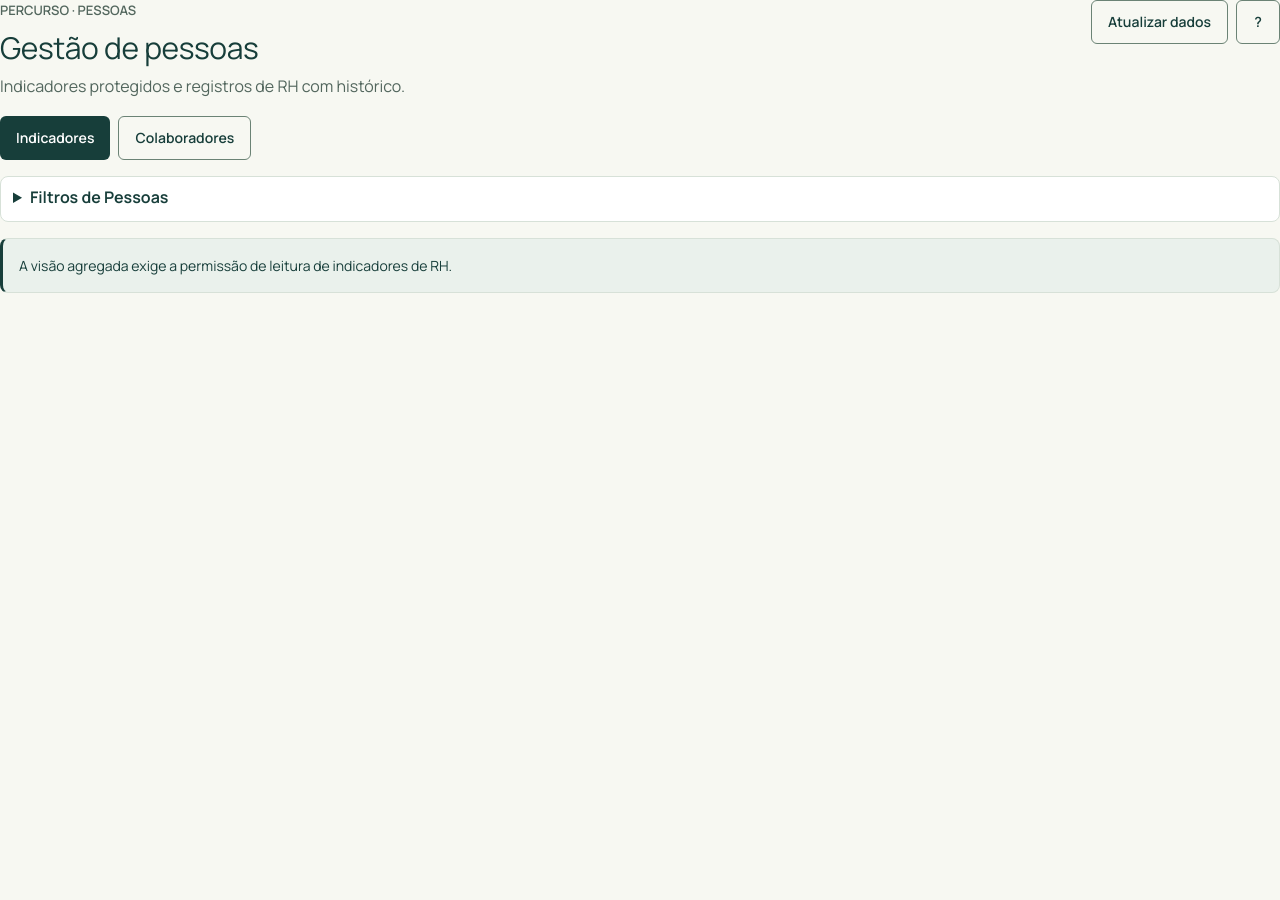
it: preserva o perfil em conflito e exige revisão antes de nova escrita
This screenshot has width=1280, height=900.
Click the button "Colaboradores": click(185, 138) 118,116 -> 251,160
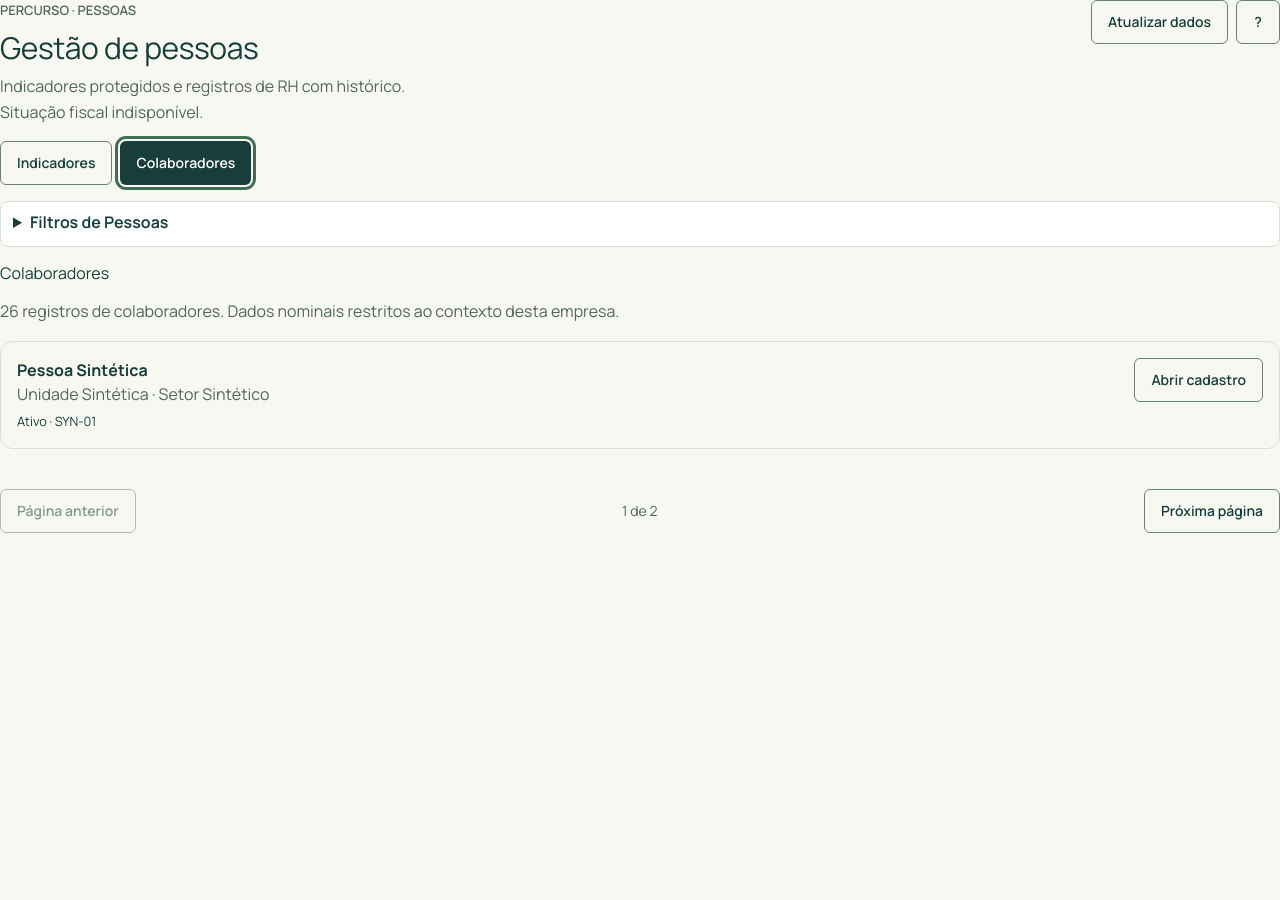
Click the button with aria-label "Abrir Pessoa Sintética": click(1199, 380) 1134,358 -> 1263,402
(page scrolled)
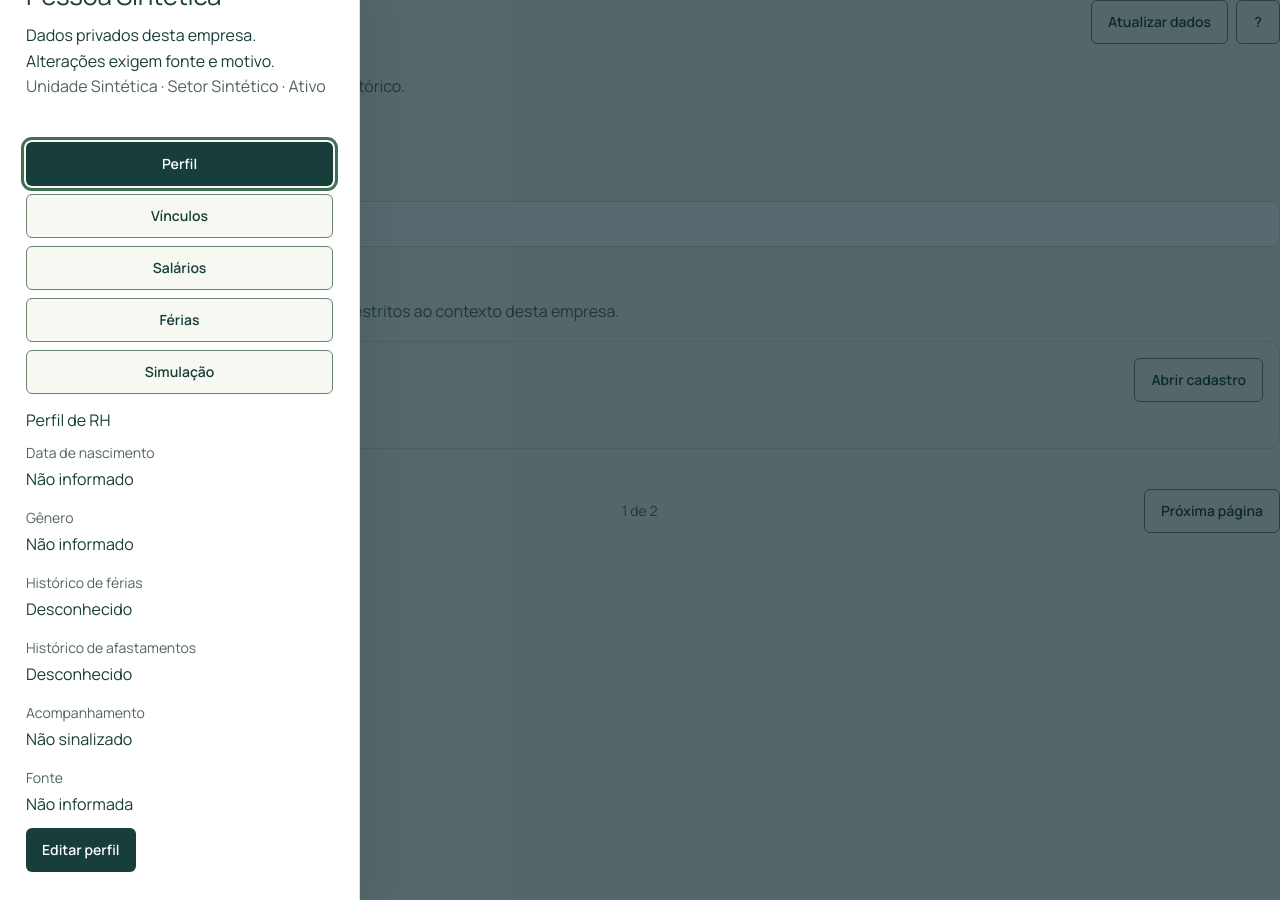
Click the button "Editar perfil": click(81, 850) 26,828 -> 136,872
(page scrolled)
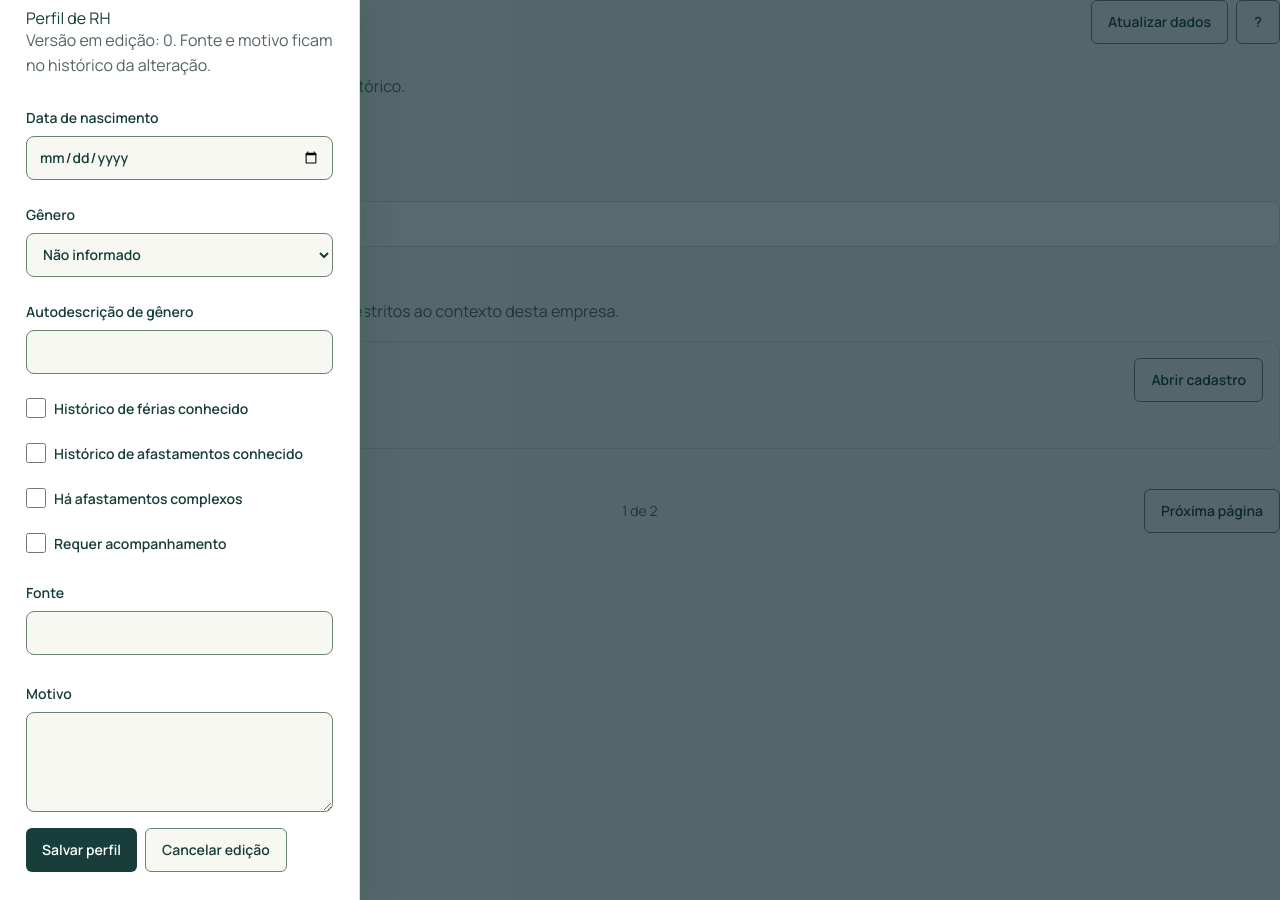
In the field labelled "Fonte": (180, 633) 26,611 -> 333,655, type "Declaração sintética"
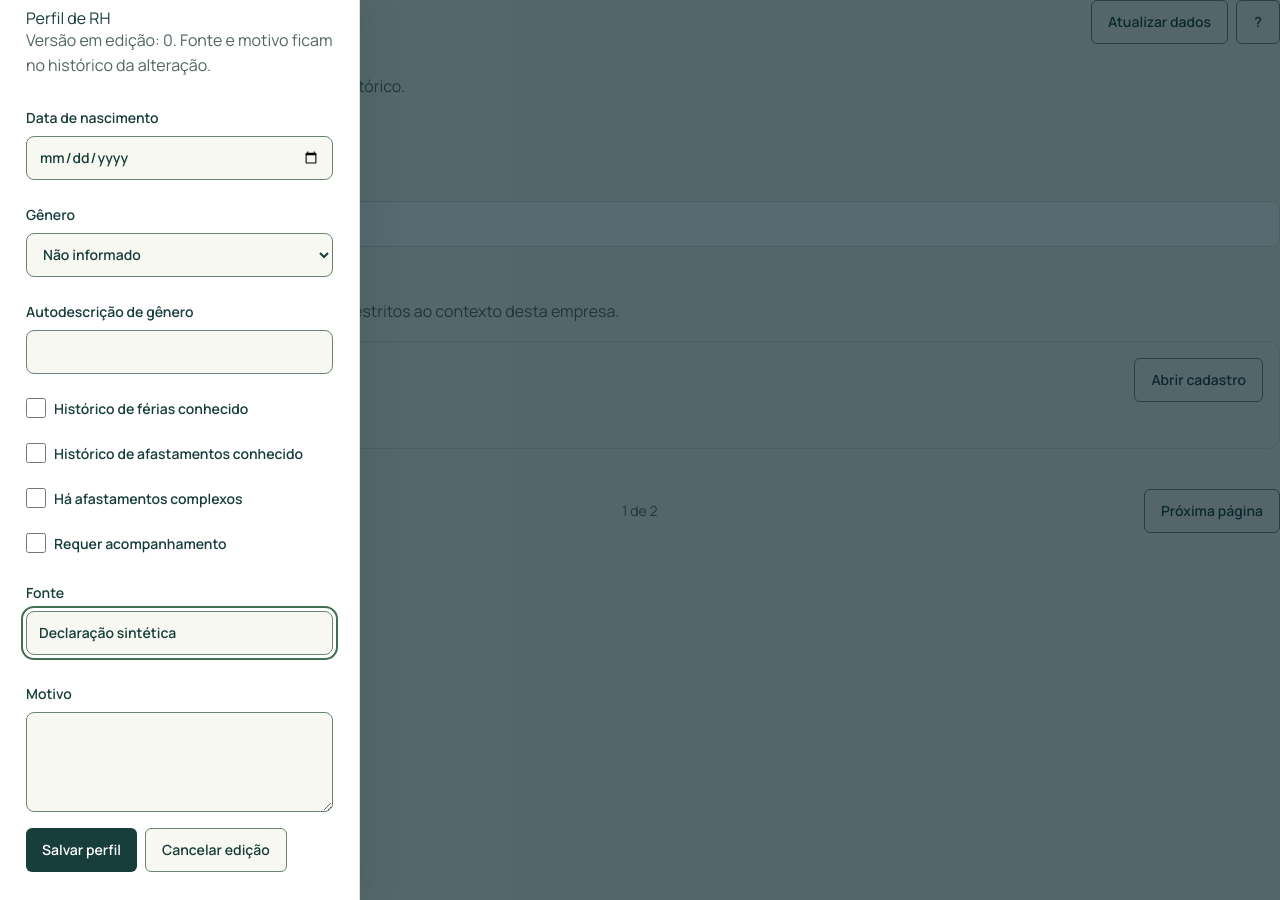
In the text box labelled "Motivo": (180, 762) 26,712 -> 333,812, type "Primeiro cadastro sintético"
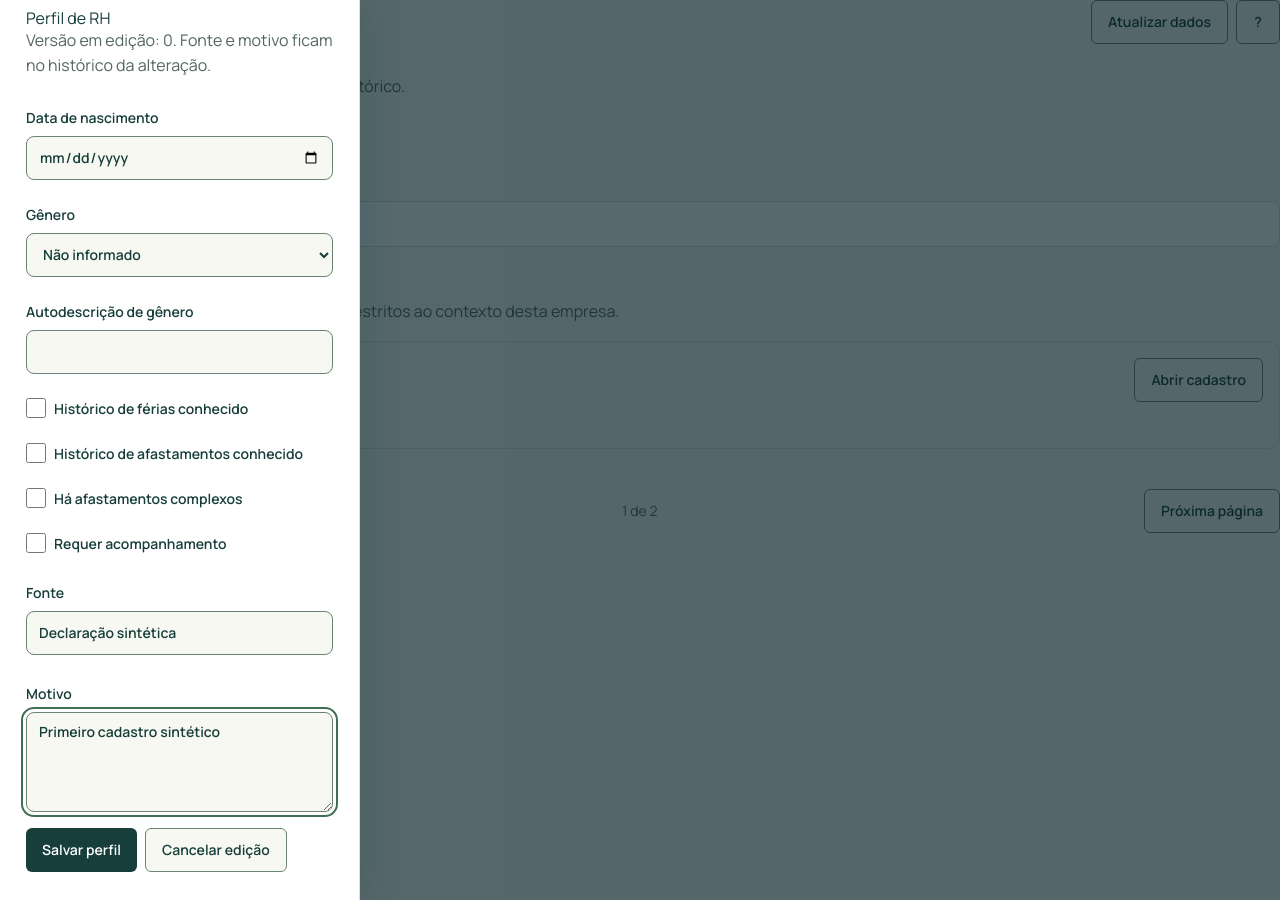
Click the button "Salvar perfil": click(82, 850) 26,828 -> 137,872
(page scrolled)
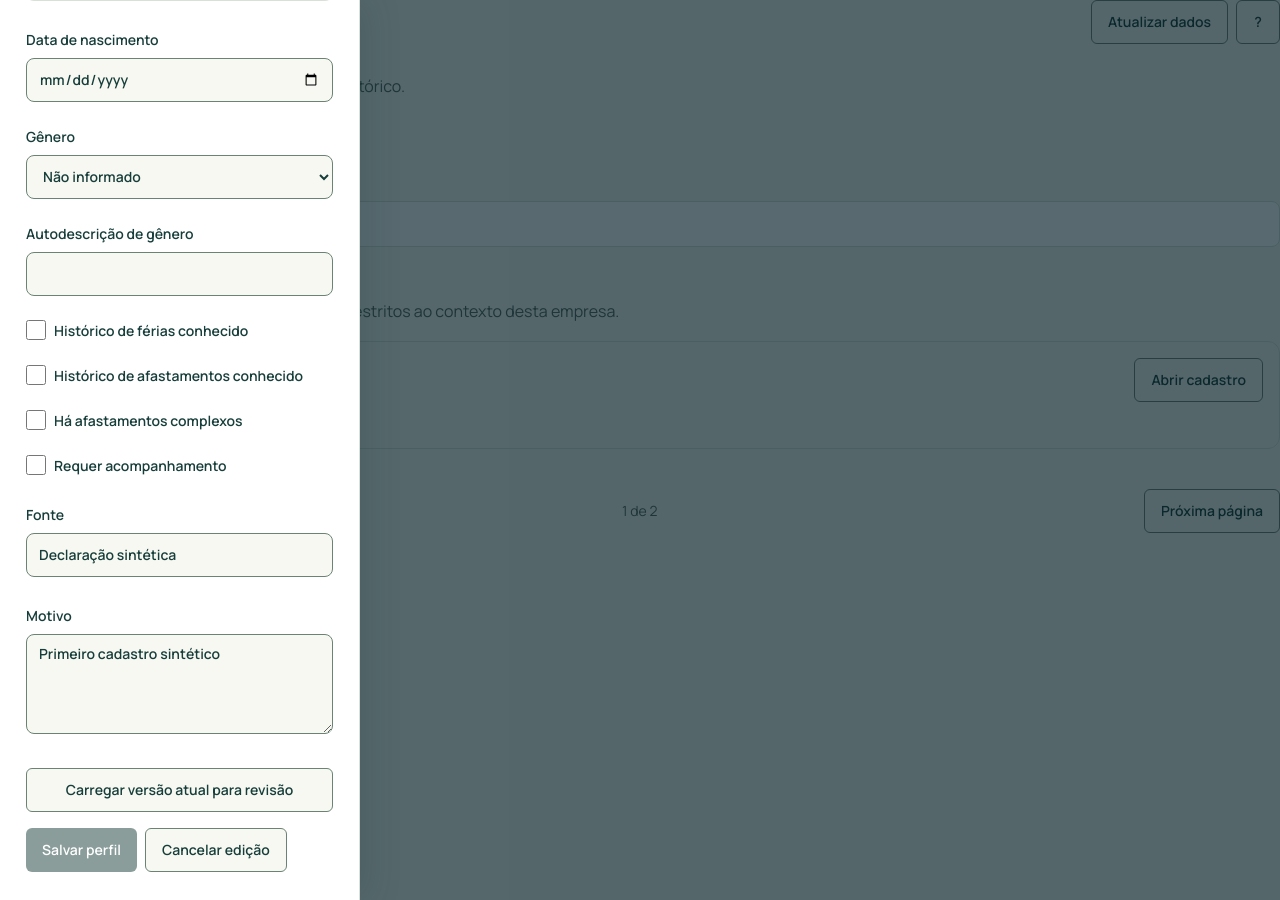
Expected: the button "Salvar perfil" is disabled, 26,828 -> 137,872
